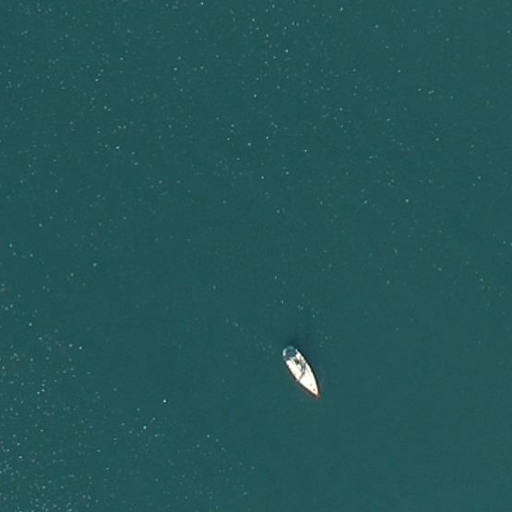ship: (280, 343, 322, 399)
